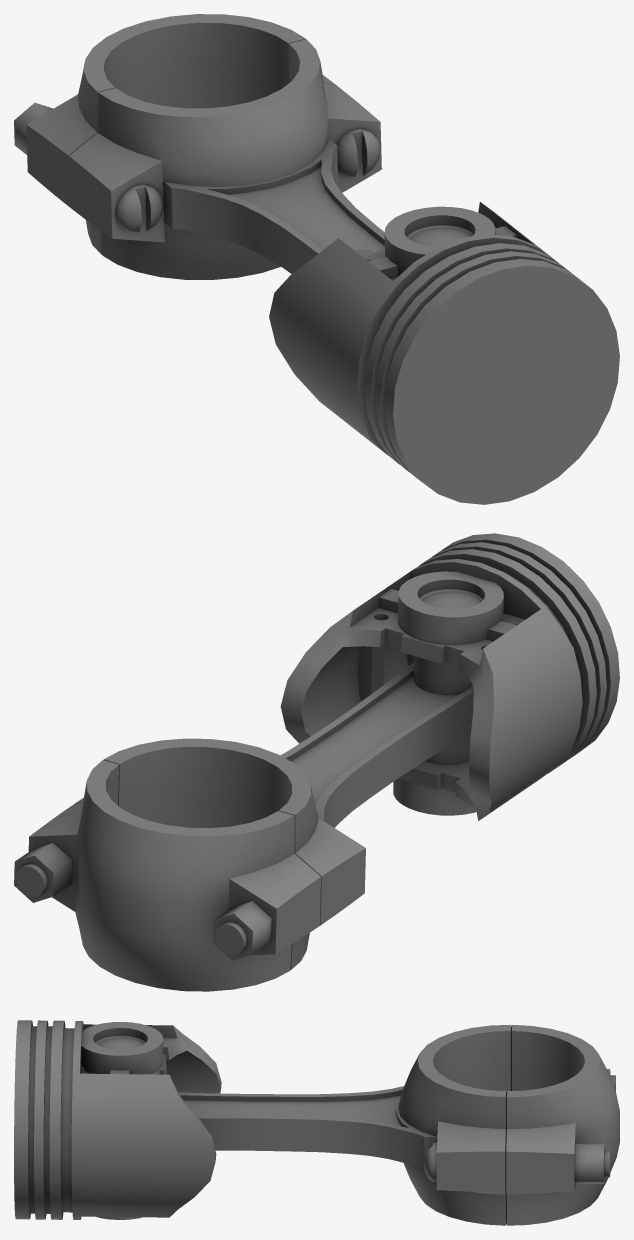
The model's file is 13476_Engine_Piston_v1_l1.obj.
The picture shows the model from 3 angles, top to bottom: view 1: azimuth 30°, elevation 25°; view 2: azimuth 150°, elevation 25°; view 3: azimuth 270°, elevation 25°; orthographic projection. The views are drawn at different scales.
Visible parts, largest first — view 1: 13476_Engine_Piston; view 2: 13476_Engine_Piston; view 3: 13476_Engine_Piston.
Part boxes in pixels (x1,y1,x2,y2): 13476_Engine_Piston: (14,14,619,504); 13476_Engine_Piston: (14,533,619,991); 13476_Engine_Piston: (14,1020,619,1225).
Bounding box in the file's own units: 9.7 × 8 × 24.33.
1 material, 1 textured.
